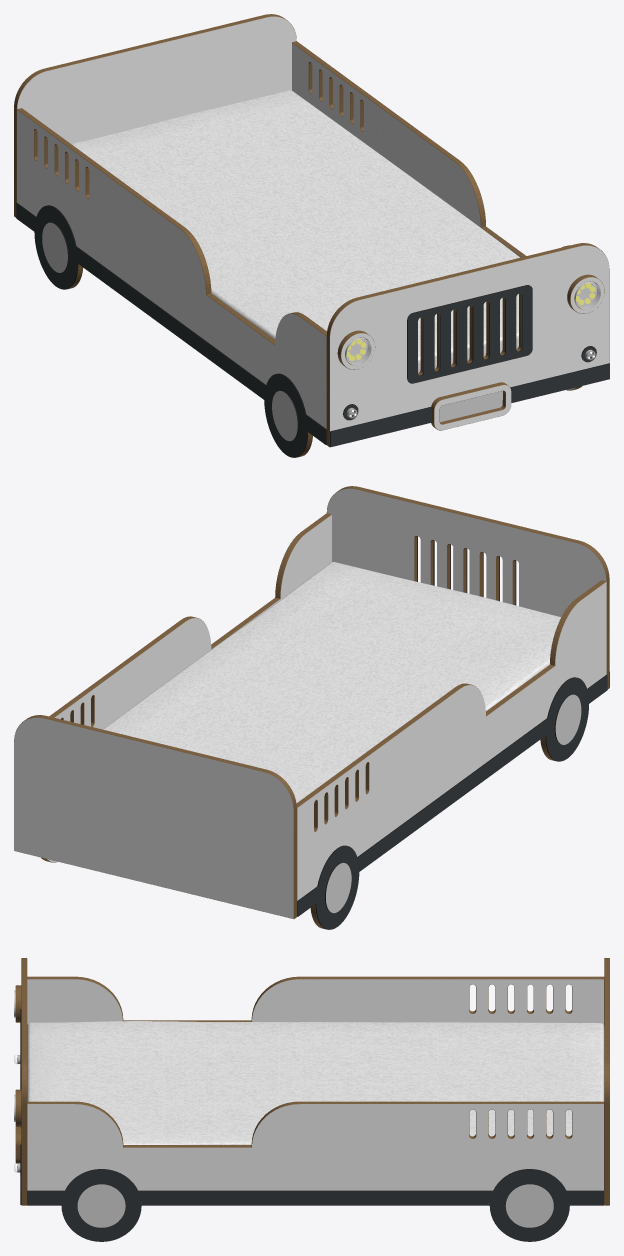
The model's file is Bed180x90.glb.
3 renders of one model, top to bottom at view 1: azimuth 30°, elevation 25°; view 2: azimuth 150°, elevation 25°; view 3: azimuth 270°, elevation 25°, orthographic. The views are drawn at different scales.
Parts seen in each view (by area): view 1: Bed180x90; view 2: Bed180x90; view 3: Bed180x90.
Part boxes in pixels (x1,y1,x2,y2): Bed180x90: [14, 14, 609, 457]; Bed180x90: [14, 486, 609, 929]; Bed180x90: [14, 958, 609, 1241].
Size of the model in its own units: 0.952 by 0.575 by 1.86.
Materials: 17 (4 with a texture image).
